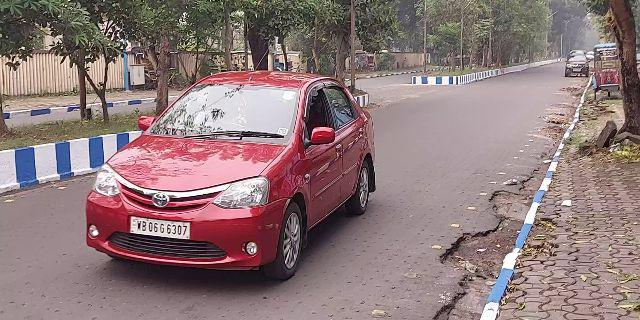Car: (82, 72, 384, 270), (565, 52, 591, 76)
Rickshaw: (590, 39, 620, 98)
